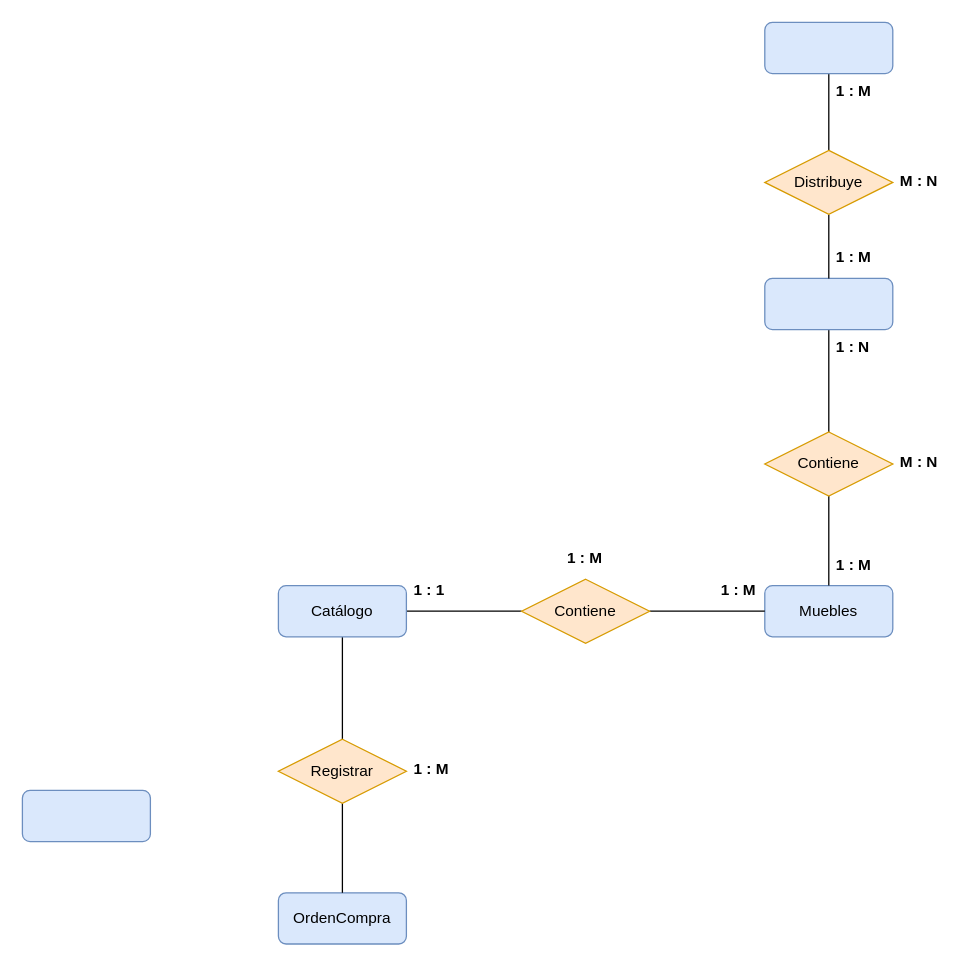
Some shapes in this 966 by 966 pixel diagram are drawn without their labels. Each missing label, with the centre of its shape:
"Cliente" belongs at (85,815).
"Madera" belongs at (828,303).
"Proveedor" belongs at (828,47).
